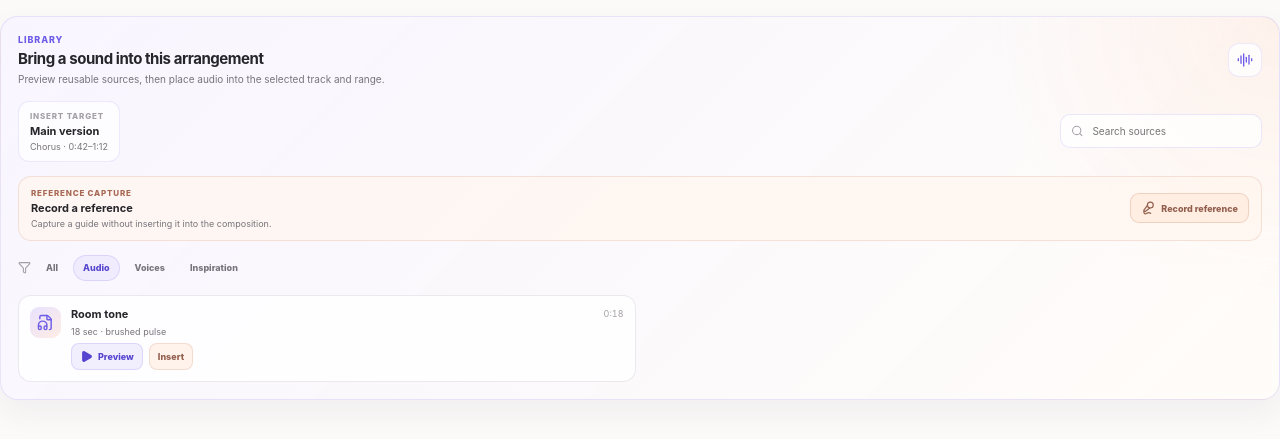
it: StudioAssetDock › shows a microphone permission error inside the dock
Click the button "Record reference" at (1190, 208), box [1130,193,1249,223]
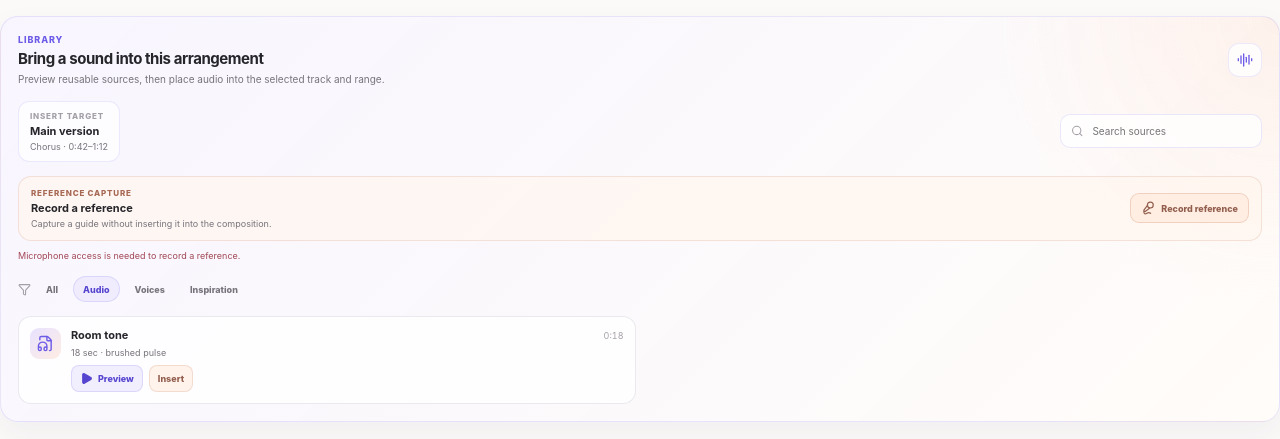
expect the message reads "Microphone access is needed to record a reference.": met, box [18,250,240,260]
